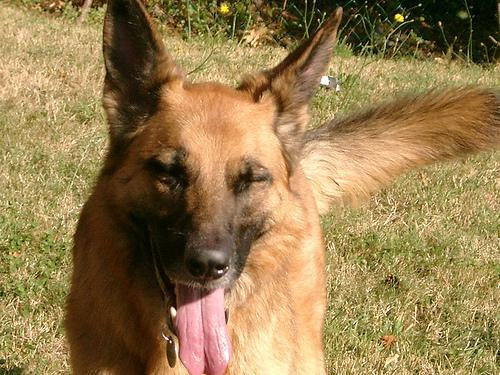German_shepherd: (63, 0, 498, 374)
